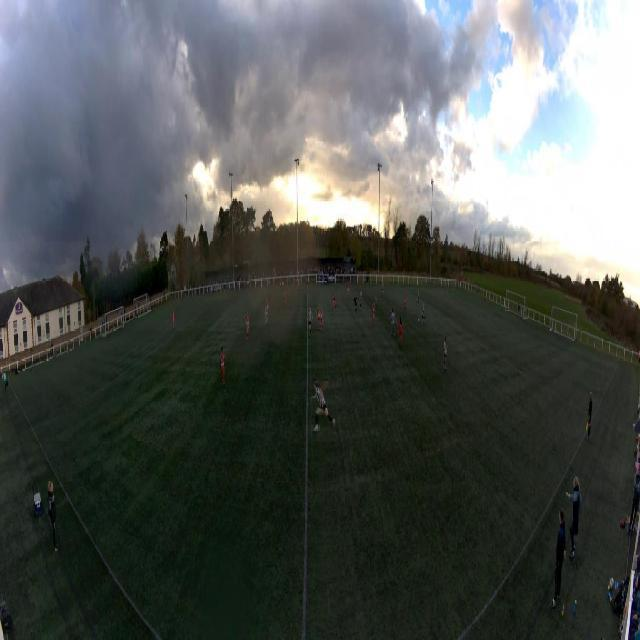ball: (418, 317, 419, 323)
player: (313, 379, 337, 433), (221, 345, 227, 389), (390, 309, 397, 339), (318, 305, 324, 333), (308, 306, 313, 338), (443, 335, 447, 373), (398, 317, 403, 347), (265, 310, 271, 331), (246, 310, 250, 341), (372, 298, 376, 327), (317, 304, 321, 330), (332, 293, 337, 312), (354, 294, 358, 314), (422, 300, 425, 324), (347, 283, 351, 299), (382, 283, 386, 298), (266, 298, 270, 313), (404, 293, 407, 311), (359, 291, 362, 309), (284, 289, 287, 307), (499, 299, 502, 317), (418, 289, 420, 307), (173, 311, 175, 329), (298, 283, 300, 294)
